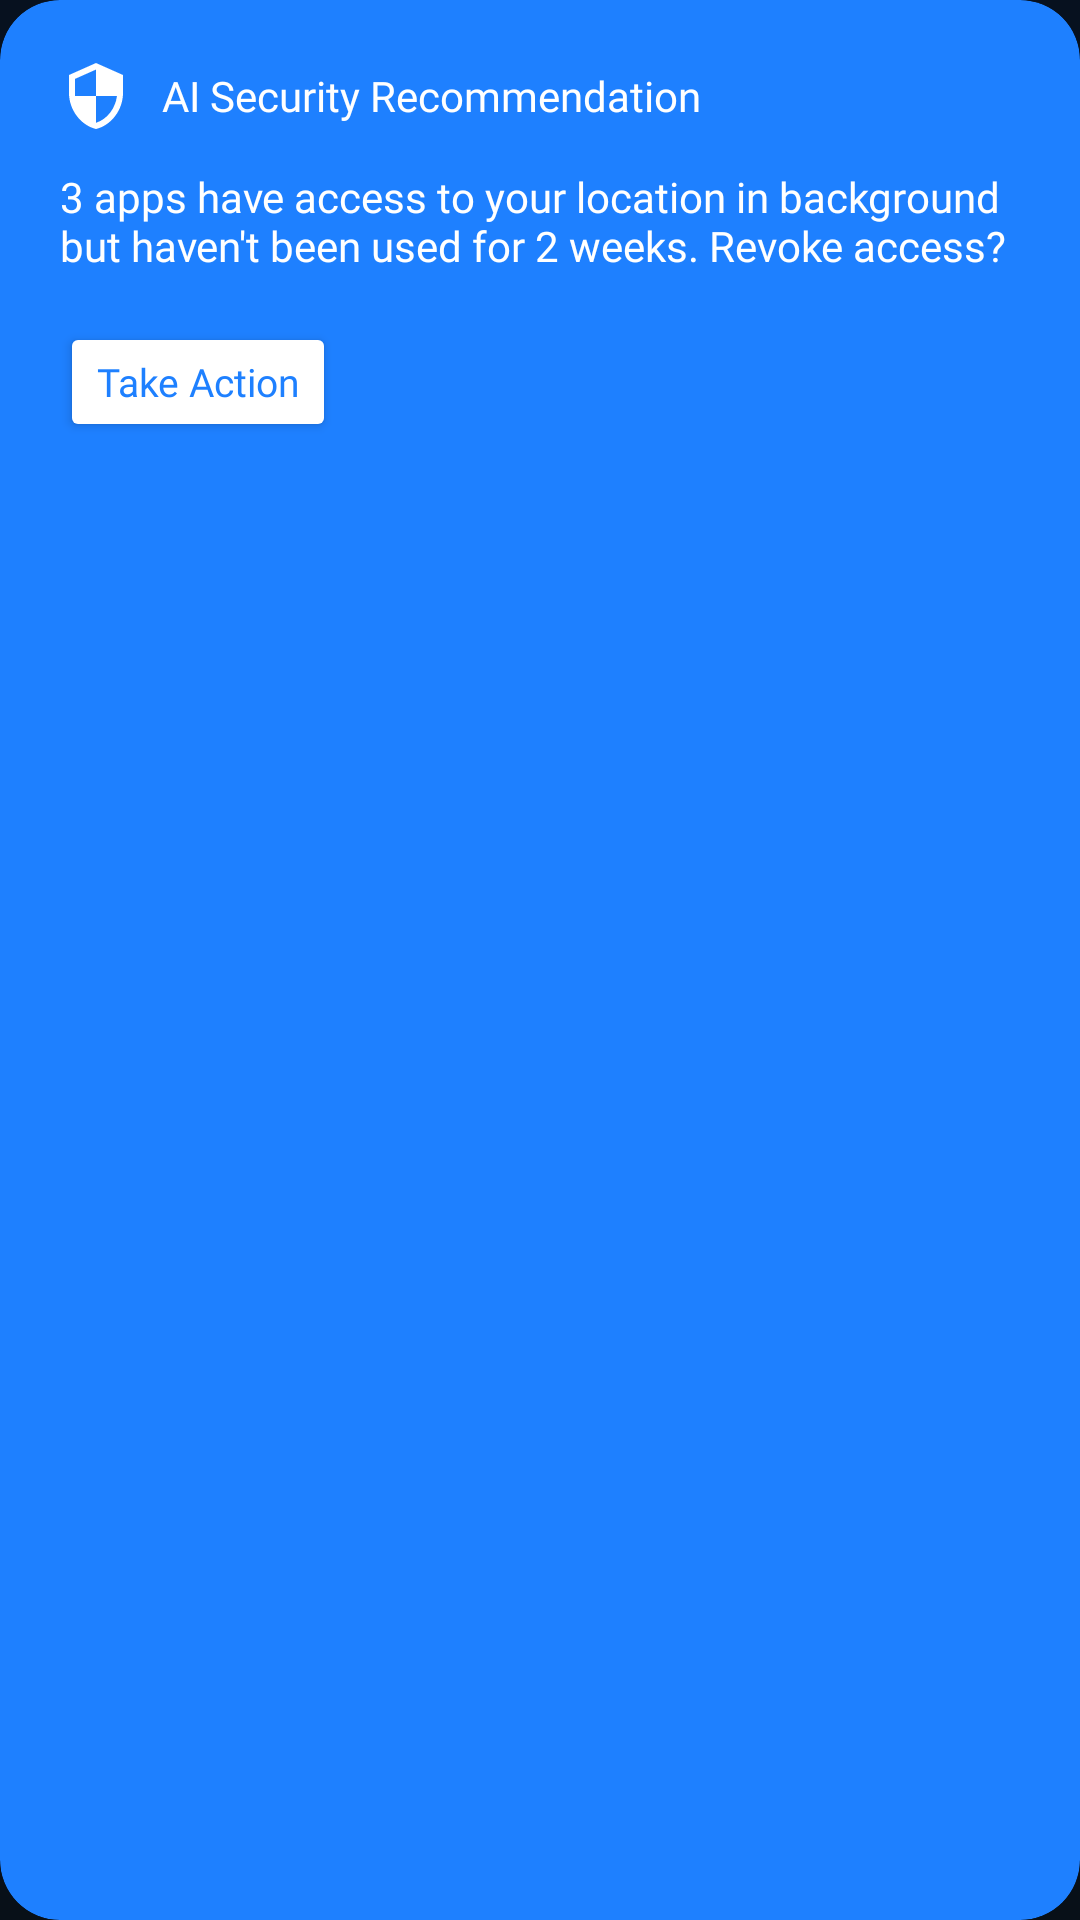

Where to tap for icons on this 1080w x 1920h app screen, as (x,y):
shield: (96,96)
